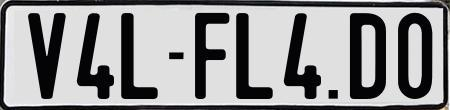0: (396, 12, 436, 100)
4: (283, 10, 323, 102), (77, 11, 118, 100)
D: (350, 10, 390, 99)
F: (192, 12, 229, 99)
L: (236, 11, 278, 97), (120, 11, 159, 100)
V: (28, 13, 66, 104)
